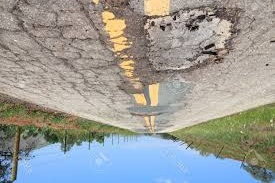pothole: (146, 3, 243, 78), (126, 101, 179, 118)
